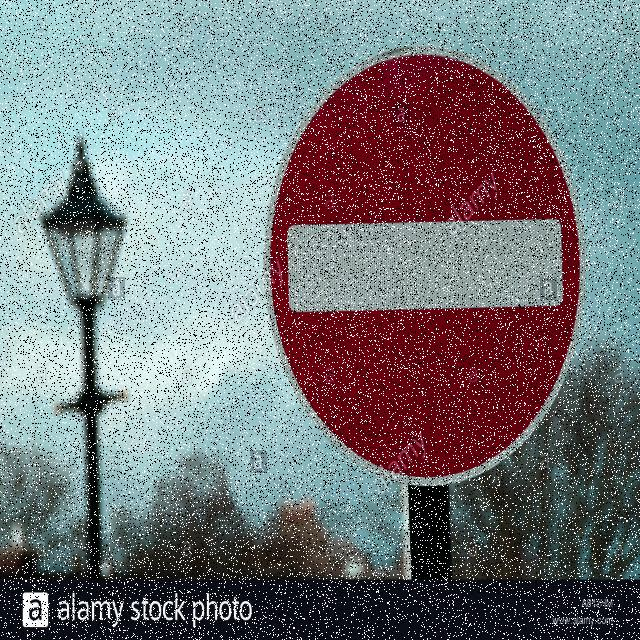no entry: (265, 44, 583, 488)
